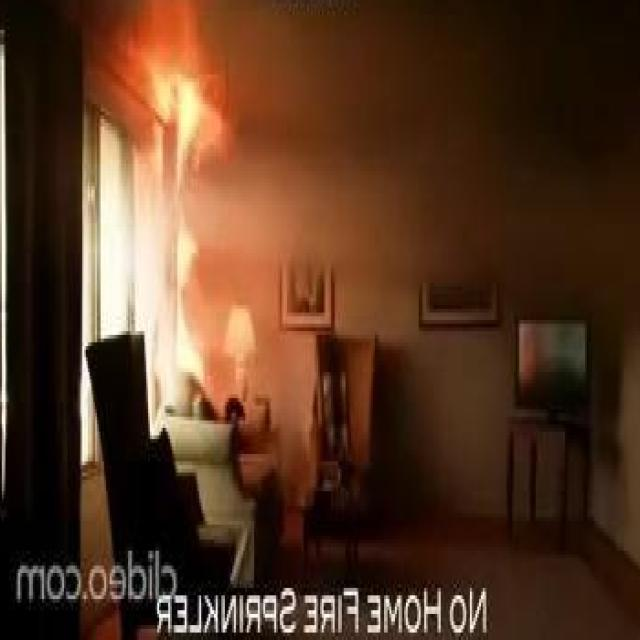smoke: (174, 71, 212, 376)
